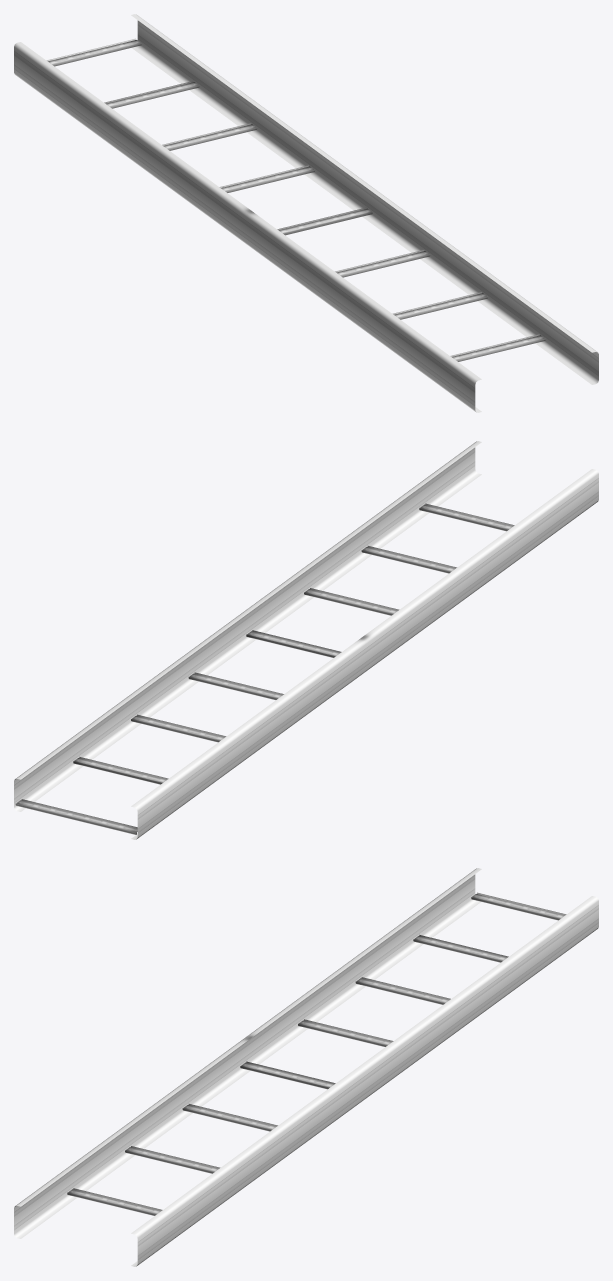
File: prop_railing.fbx
The picture shows the model from 3 angles, top to bottom: view 1: azimuth 30°, elevation 25°; view 2: azimuth 150°, elevation 25°; view 3: azimuth 330°, elevation 25°; orthographic projection.
Parts seen in each view (by area): view 1: LOWPOLY_RAILING; view 2: LOWPOLY_RAILING; view 3: LOWPOLY_RAILING.
Part boxes in pixels (box(x1,y1,x2,y2)): LOWPOLY_RAILING: box(14, 14, 598, 412); LOWPOLY_RAILING: box(14, 441, 598, 839); LOWPOLY_RAILING: box(14, 868, 598, 1266).
Size of the model in its own units: 360 by 90 by 2328.
Materials: 1 (1 with a texture image).
